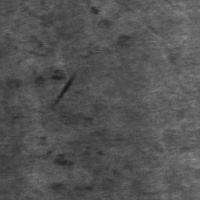rolled-in_scale: (9, 33, 67, 88), (31, 128, 75, 172)
